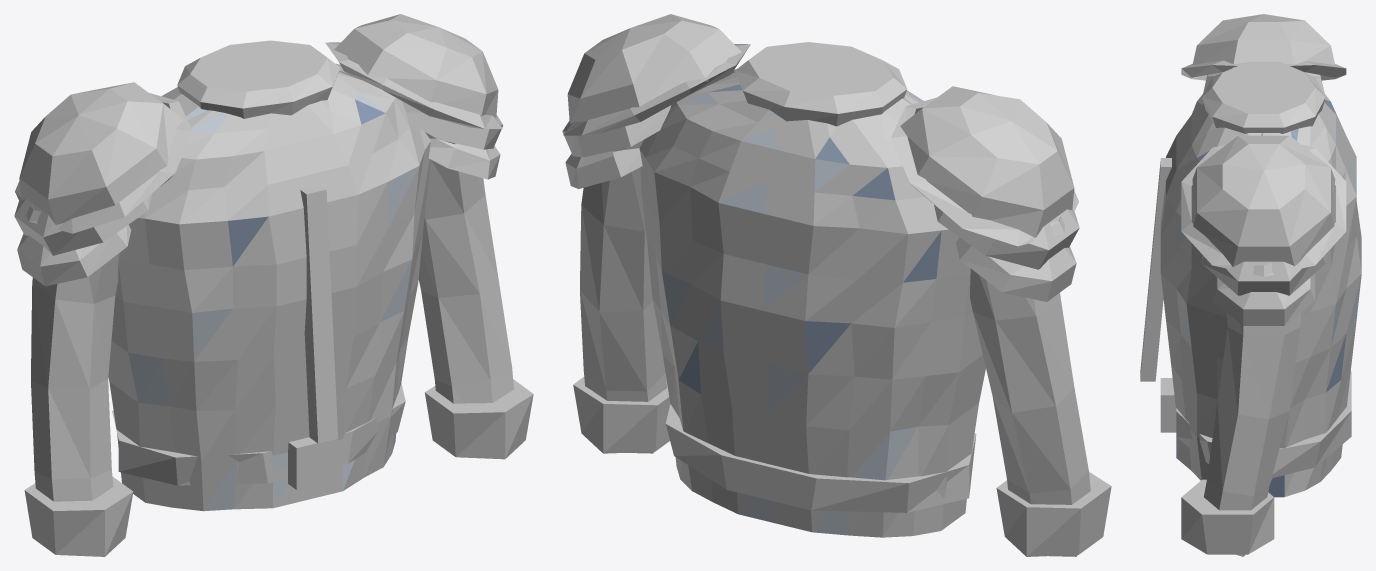
Rendered from B01_5_silver_filigree_platebody.obj.
The picture shows the model from 3 angles, left to right: view 1: azimuth 30°, elevation 25°; view 2: azimuth 150°, elevation 25°; view 3: azimuth 270°, elevation 25°; orthographic projection. The views are drawn at different scales.
Parts seen in each view (by area): view 1: B01_5_silver_filigree_platebody; view 2: B01_5_silver_filigree_platebody; view 3: B01_5_silver_filigree_platebody.
Boxes of the visible parts, x1,y1,x2,y2 form: B01_5_silver_filigree_platebody: (14,14,533,556); B01_5_silver_filigree_platebody: (562,14,1111,556); B01_5_silver_filigree_platebody: (1140,14,1361,556).
Bounding box in the file's own units: 96 × 80 × 43.
